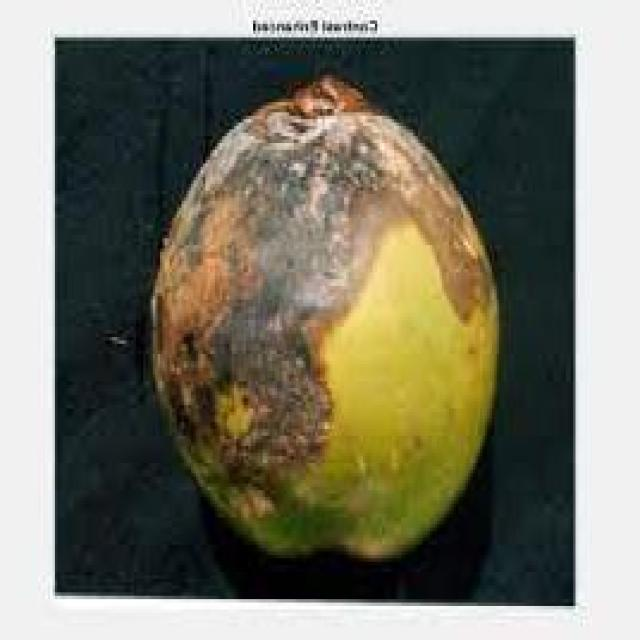damaged: (153, 75, 497, 555)
